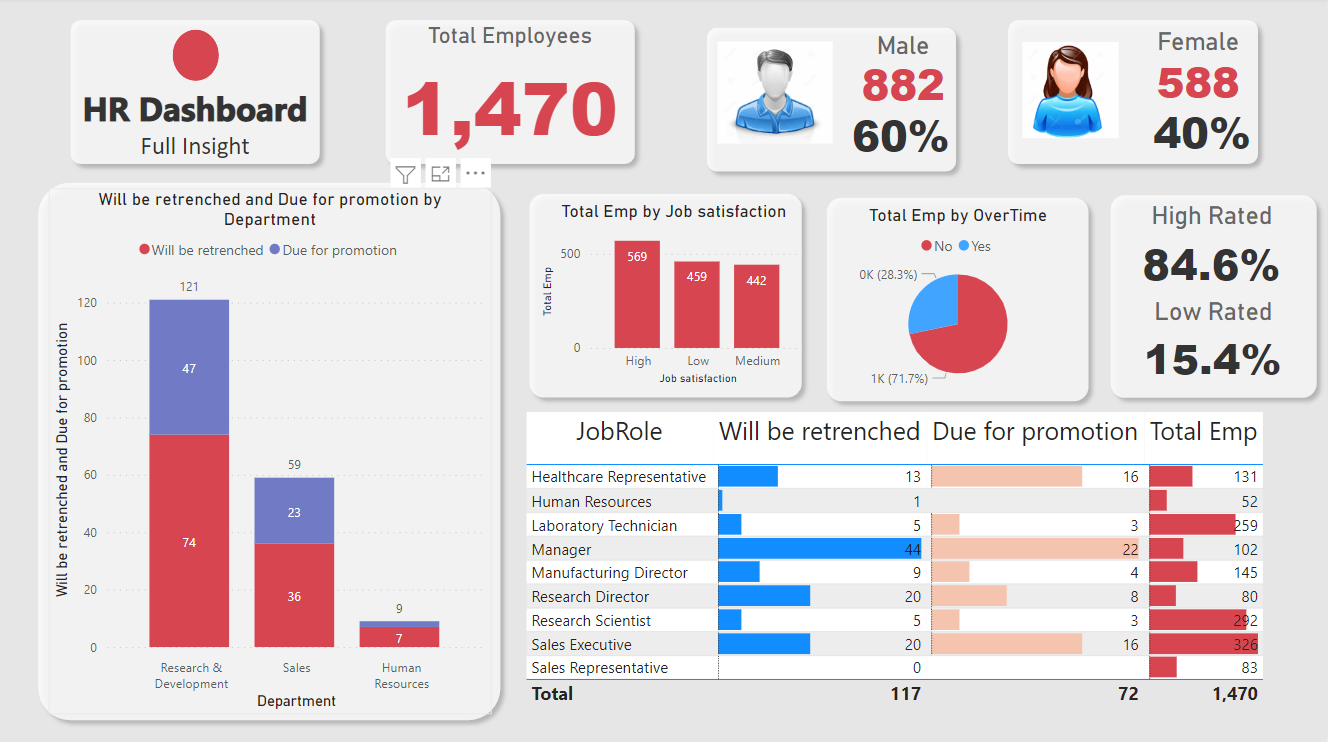

This screenshot's page, from the dashboard's own definition file:
{"tool":"powerbi","page":{"name":"Home","canvas":[1280,720],"ordinal":0},"visuals":[{"type":"shape","box":[78.4,12.1,258.1,156.8],"z":1000},{"type":"shape","box":[369,12.1,258.1,156.8],"z":2000},{"type":"shape","box":[677.8,12.1,258.1,156.8],"z":3000},{"type":"shape","box":[972.1,12.1,288.2,156.8],"z":4000},{"type":"shape","box":[0,190.6,533.1,516.2],"z":5000},{"type":"shape","box":[533.1,189.3,394.4,285.8],"z":6000},{"type":"shape","box":[533.1,465.5,413.7,241.2],"z":7000},{"type":"shape","box":[927.4,189.3,185.7,193],"z":8000},{"type":"shape","box":[946.3,398.3,333.7,293.9],"z":9000},{"type":"shape","box":[1113.2,189.3,166.4,193],"z":10000},{"type":"textbox","box":[90.5,77.2,246,82],"z":11000},{"type":"shape","box":[185.7,31.4,42.2,49.4],"z":12000},{"type":"card","title":"Total Employees","fields":{"Values":["All Measures.Total Emp"]},"box":[375.1,26.5,246,132.7],"z":13000},{"type":"card","title":"Male","fields":{"Values":["All Measures.Male"]},"box":[800.8,27.7,126.6,73.6],"z":14000},{"type":"card","title":"Male","fields":{"Values":["All Measures.%male"]},"box":[810.5,92.9,109.7,66.3],"z":15000},{"type":"card","title":"Female","fields":{"Values":["All Measures.Female"]},"box":[1095.1,24.1,126.6,77.2],"z":16000},{"type":"card","title":"Male","fields":{"Values":["All Measures.%female"]},"box":[1095.1,96.5,126.6,59.1],"z":17000},{"type":"image","box":[686.2,31.4,120.6,119.4],"z":18000},{"type":"image","box":[974.5,39.8,120.6,102.5],"z":19000},{"type":"card","title":"Male","fields":{"Values":["All Measures.%Due for promotion"]},"box":[185.7,332.9,172.5,104.9],"z":20000},{"type":"card","title":"Due for Promotion","fields":{"Values":["All Measures.Due for promotion"]},"box":[113.4,219.5,305.1,125.4],"z":21000},{"type":"card","title":"Not Due for Promotion","fields":{"Values":["All Measures.Not Due"]},"box":[119.4,452.3,305.1,133.9],"z":22000},{"type":"card","title":"Male","fields":{"Values":["All Measures.%Not due"]},"box":[185.7,569.2,172.5,123],"z":23000},{"type":"shape","box":[9.6,431.8,515,12.1],"z":24000},{"type":"barChart","title":"Service Year","fields":{"Category":["HR Analytics Data.Service Years"],"Y":["All Measures.Total Emp"]},"box":[551.2,218.3,351,229.1],"z":25000},{"type":"columnChart","title":"Job Levels","fields":{"Category":["HR Analytics Data.Job Levels"],"Y":["All Measures.Total Emp"]},"box":[551.2,475.2,384.7,217.1],"z":26000},{"type":"card","title":"On Service","fields":{"Values":["All Measures.On Service"]},"box":[949.1,218.3,141.1,78.4],"z":27000},{"type":"card","title":"Male","fields":{"Values":["All Measures.%on service"]},"box":[962.4,303.9,125.4,57.9],"z":28000},{"type":"card","title":"Retrench","fields":{"Values":["All Measures.Will be retreanched"]},"box":[1132.5,218.3,141.1,77.2],"z":29000},{"type":"card","title":"Male","fields":{"Values":["All Measures.%will be retreanched"]},"box":[1139.7,303.9,125.4,57.9],"z":30000},{"type":"pieChart","fields":{"Category":["HR Analytics Data.Distance Status"],"Y":["All Measures.Total Emp"]},"box":[962.4,406.4,300.3,272.6],"z":31000}]}

Visuals, with their boxes in screenshot pixels (x1, y1, x2, y2), scaled from the page's 1280x720 canvas onto the 1328x742 screenshot:
shape: box(81, 12, 349, 174)
shape: box(383, 12, 651, 174)
shape: box(703, 12, 971, 174)
shape: box(1009, 12, 1308, 174)
shape: box(0, 196, 553, 728)
shape: box(553, 195, 962, 490)
shape: box(553, 480, 982, 728)
shape: box(962, 195, 1155, 394)
shape: box(982, 410, 1327, 713)
shape: box(1155, 195, 1327, 394)
textbox: box(94, 80, 349, 164)
shape: box(193, 32, 236, 83)
"Total Employees" card: box(389, 27, 644, 164)
"Male" card: box(831, 29, 962, 104)
"Male" card: box(841, 96, 955, 164)
"Female" card: box(1136, 25, 1268, 104)
"Male" card: box(1136, 99, 1268, 160)
image: box(712, 32, 837, 155)
image: box(1011, 41, 1136, 147)
"Male" card: box(193, 343, 372, 451)
"Due for Promotion" card: box(118, 226, 434, 355)
"Not Due for Promotion" card: box(124, 466, 440, 604)
"Male" card: box(193, 587, 372, 713)
shape: box(10, 445, 544, 457)
"Service Year" barChart: box(572, 225, 936, 461)
"Job Levels" columnChart: box(572, 490, 971, 713)
"On Service" card: box(985, 225, 1131, 306)
"Male" card: box(998, 313, 1129, 373)
"Retrench" card: box(1175, 225, 1321, 305)
"Male" card: box(1182, 313, 1313, 373)
pieChart - HR Analytics Data.Distance Status x All Measures.Total Emp: box(998, 419, 1310, 700)
